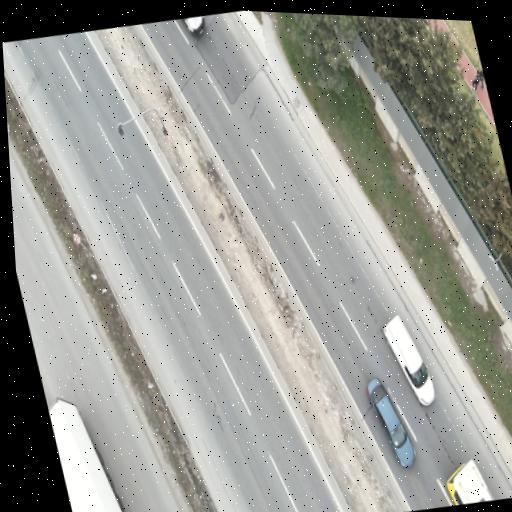bus: (446, 461, 492, 505)
car: (383, 317, 434, 405), (366, 379, 414, 467)
person: (467, 71, 481, 92), (474, 64, 486, 88)
truck: (48, 398, 123, 511), (183, 16, 204, 35)
